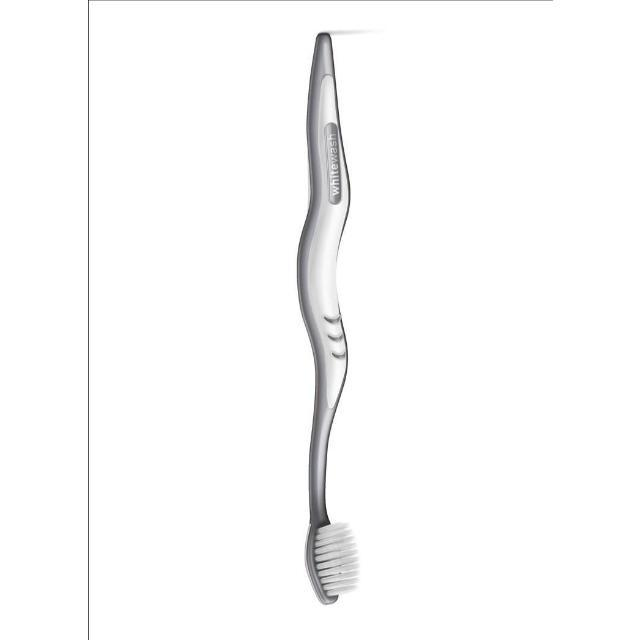toothbrush: (244, 9, 408, 630)
